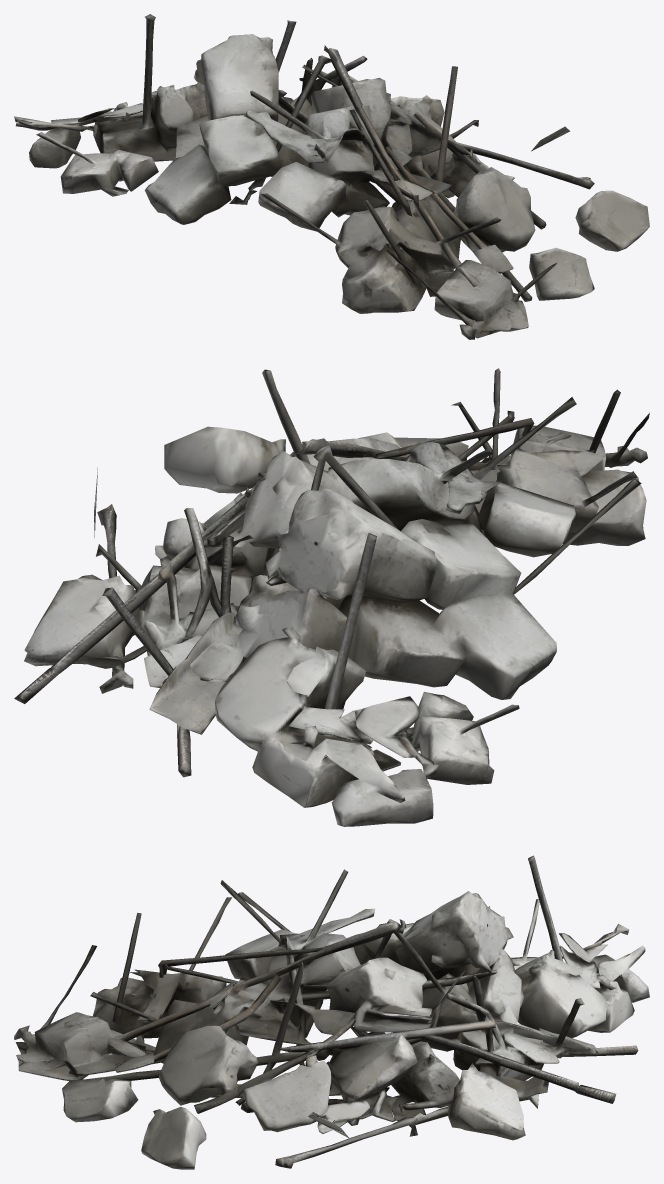
File: debris_pile.fbx
The picture shows the model from 3 angles, top to bottom: view 1: azimuth 30°, elevation 25°; view 2: azimuth 150°, elevation 25°; view 3: azimuth 270°, elevation 25°; orthographic projection. The views are drawn at different scales.
Parts seen in each view (by area): view 1: debris_pile; view 2: debris_pile; view 3: debris_pile.
Boxes of the visible parts, x1=… form: debris_pile: x1=14, y1=14, x2=649, y2=339; debris_pile: x1=14, y1=368, x2=649, y2=826; debris_pile: x1=14, y1=855, x2=649, y2=1169.
Bounding box in the file's own units: 2.36 × 0.867 × 3.
Materials: 1 (1 with a texture image).
